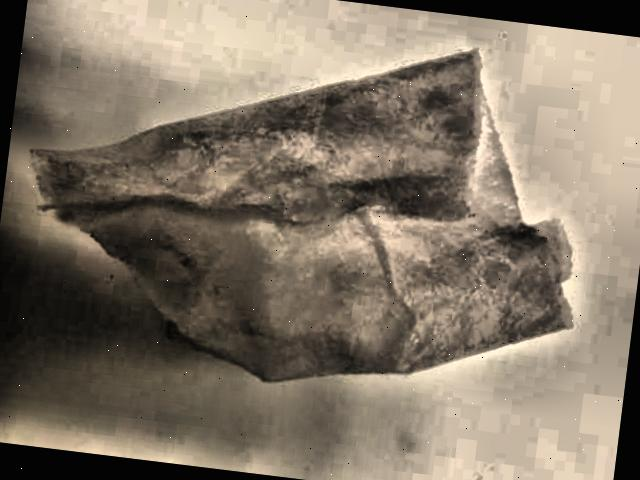Paper: (6, 0, 611, 445)
